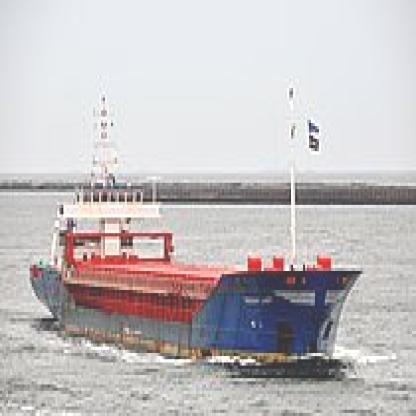Tanker: (24, 73, 370, 378)
